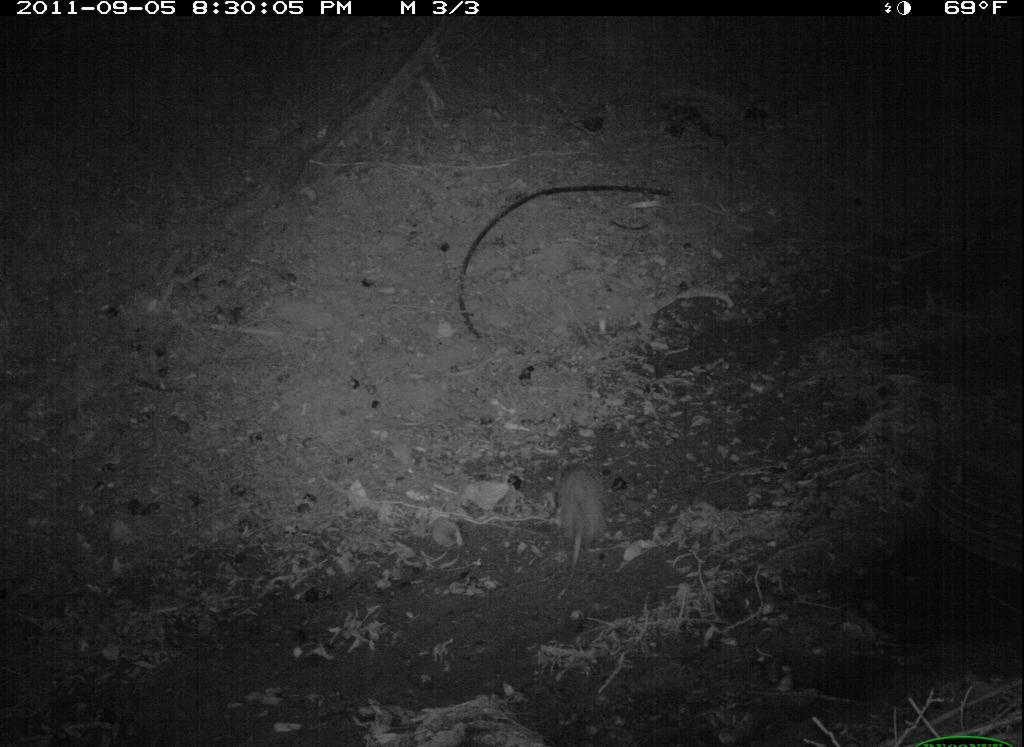opossum: (542, 449, 633, 610)
